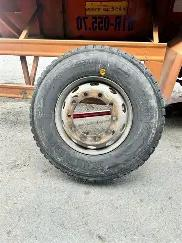ROAD_OBSTACLE: (30, 42, 166, 178)
